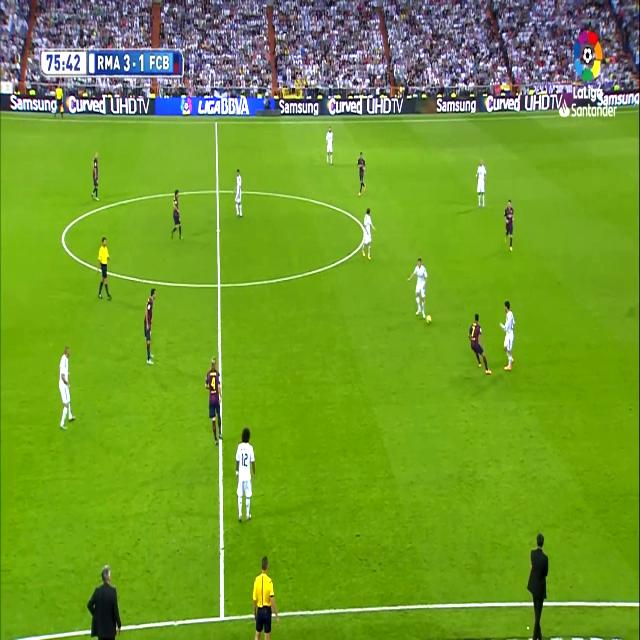halfcircle_bottom: (213, 271, 225, 297)
halfcircle_top: (213, 180, 223, 200)
midline_bottom_intersection: (214, 599, 230, 626)
midline_top_intersection: (213, 116, 219, 128)
